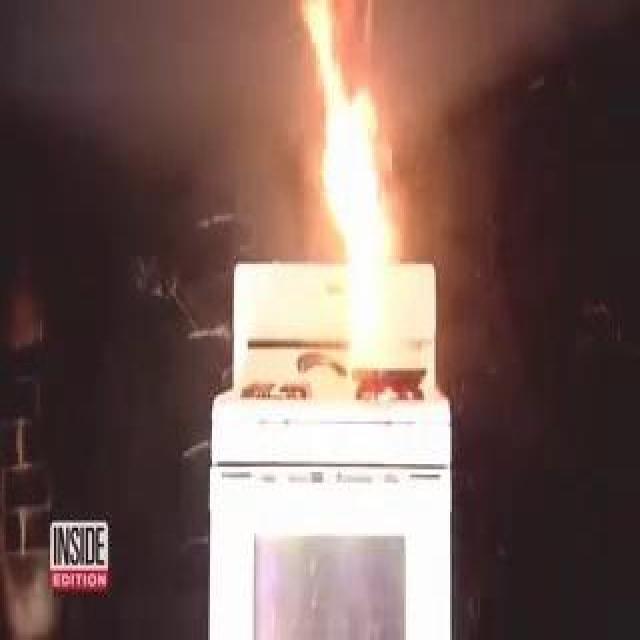Fire: (303, 2, 415, 370)
